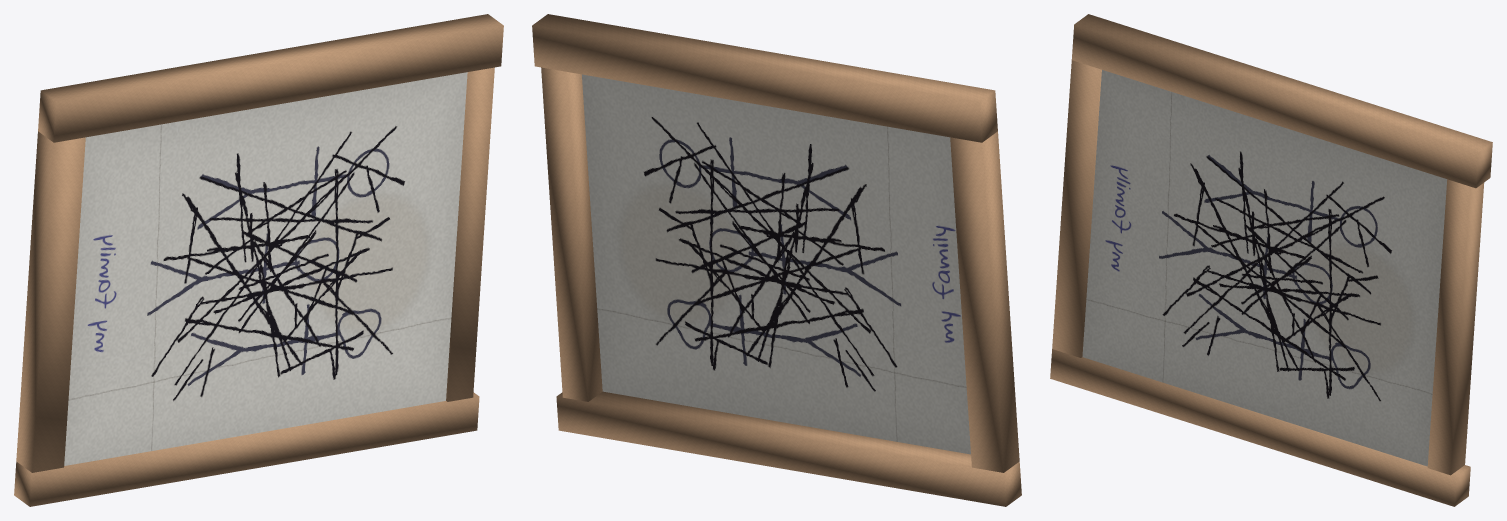
The model's file is Cadre_family.glb.
The picture shows the model from 3 angles, left to right: view 1: azimuth 30°, elevation 25°; view 2: azimuth 150°, elevation 25°; view 3: azimuth 330°, elevation 25°; orthographic projection. The views are drawn at different scales.
Parts seen in each view (by area): view 1: Dessin, Cadre; view 2: Dessin, Cadre; view 3: Dessin, Cadre.
Part boxes in pixels (x1,y1,x2,y2): Dessin: (64,72,467,465); Cadre: (14,14,503,506); Dessin: (582,74,970,454); Cadre: (532,14,1021,506); Dessin: (1082,70,1447,466); Cadre: (1050,14,1492,506).
Bounding box in the file's own units: 0.5179 × 0.4502 × 0.03.
Materials: 2 (2 with a texture image).
